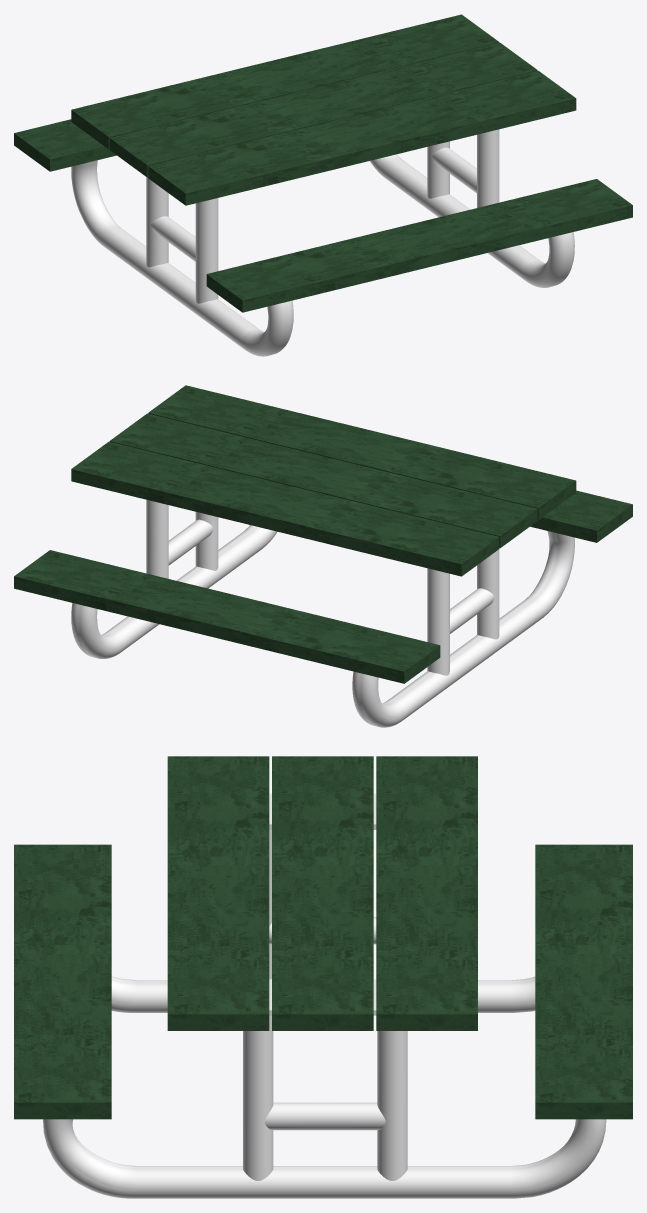
File: PicnicTable.glb
3 renders of one model, top to bottom at view 1: azimuth 30°, elevation 25°; view 2: azimuth 150°, elevation 25°; view 3: azimuth 270°, elevation 25°, orthographic. The views are drawn at different scales.
Visible parts, largest first — view 1: TablePlank3, Seat 1, TablePlank2, TablePlank, Body20, Body19, Seat2; view 2: TablePlank, Seat2, TablePlank3, TablePlank2, Body20, Body19, Seat 1; view 3: Body19, TablePlank3, TablePlank, TablePlank2, Seat 1, Seat2, Body20.
Part boxes in pixels (<box>): TablePlank3: <box>148,71,576,205</box>; Seat 1: <box>206,179,632,312</box>; TablePlank2: <box>109,42,537,177</box>; TablePlank: <box>71,14,499,149</box>; Body20: <box>71,160,293,356</box>; Body19: <box>370,129,574,287</box>; Seat2: <box>14,119,116,171</box>; TablePlank: <box>71,441,499,576</box>; Seat2: <box>14,550,440,683</box>; TablePlank3: <box>148,385,576,519</box>; TablePlank2: <box>109,413,537,548</box>; Body20: <box>352,531,574,727</box>; Body19: <box>71,499,277,658</box>; Seat 1: <box>530,490,632,542</box>; Body19: <box>43,979,606,1198</box>; TablePlank3: <box>167,756,269,1030</box>; TablePlank: <box>376,756,477,1030</box>; TablePlank2: <box>272,756,373,1030</box>; Seat 1: <box>14,844,111,1119</box>; Seat2: <box>535,844,632,1119</box>; Body20: <box>111,793,535,1012</box>.
Size of the model in its own units: 3.23 by 1.27 by 3.27.
Materials: 2 (1 with a texture image).
